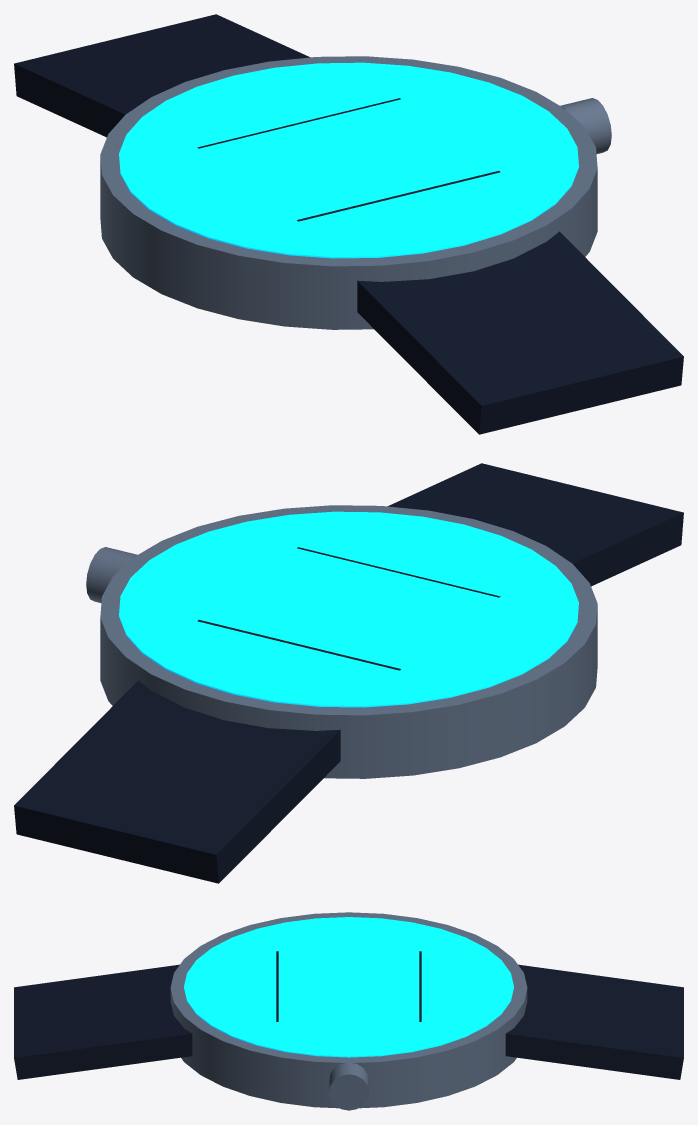
Rendered from smartwatch.glb.
The picture shows the model from 3 angles, top to bottom: view 1: azimuth 30°, elevation 25°; view 2: azimuth 150°, elevation 25°; view 3: azimuth 270°, elevation 25°; orthographic projection. The views are drawn at different scales.
Parts seen in each view (by area): view 1: FTS_Smartwatch; view 2: FTS_Smartwatch; view 3: FTS_Smartwatch.
Part boxes in pixels (<box>): FTS_Smartwatch: <box>14,14,683,434</box>; FTS_Smartwatch: <box>14,463,683,883</box>; FTS_Smartwatch: <box>14,912,683,1110</box>.
Bounding box in the file's own units: 3.45 × 0.5762 × 6.01.
